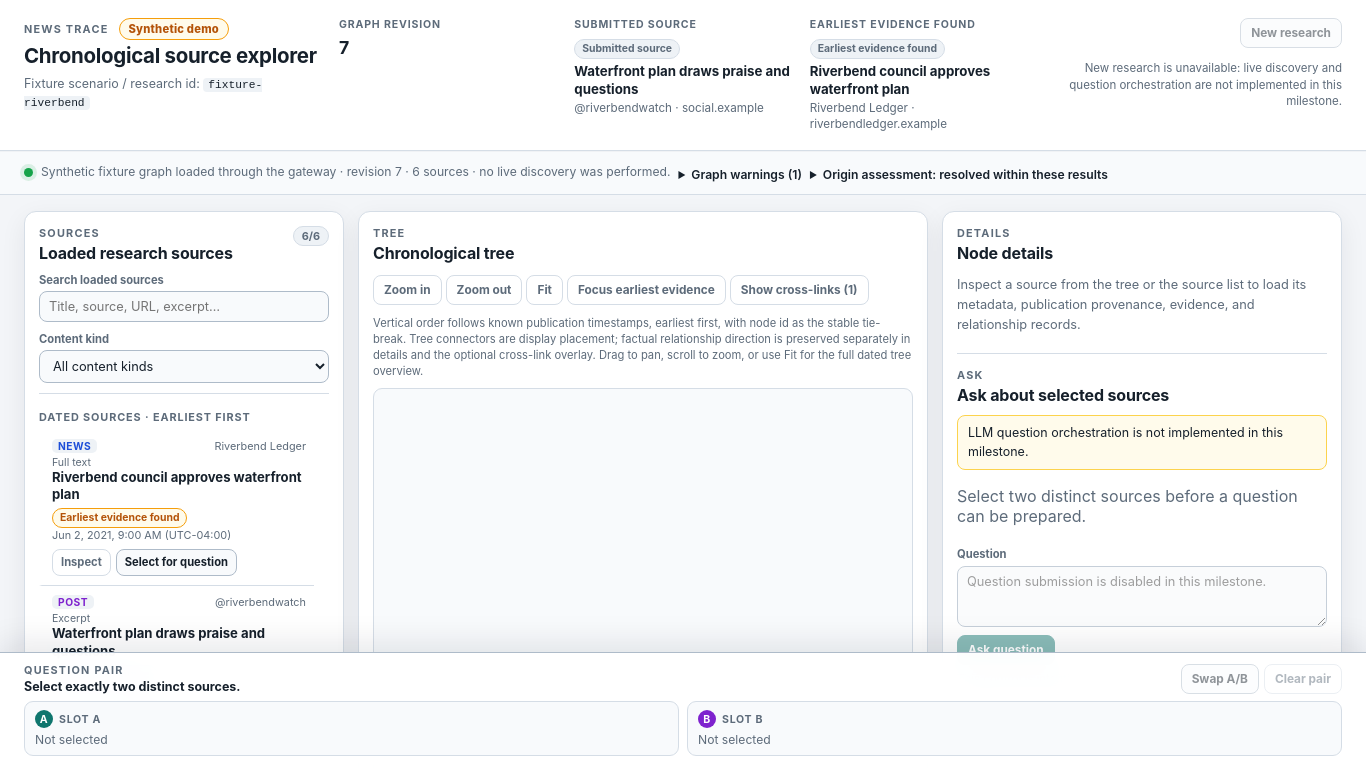
Test: source list search and filters › searches loaded sources and filters by content kind
The width and height of the screenshot is (1366, 768).
Type "Courier" into the search field with test id "source-search" at (184, 306), box [39,291,329,322]
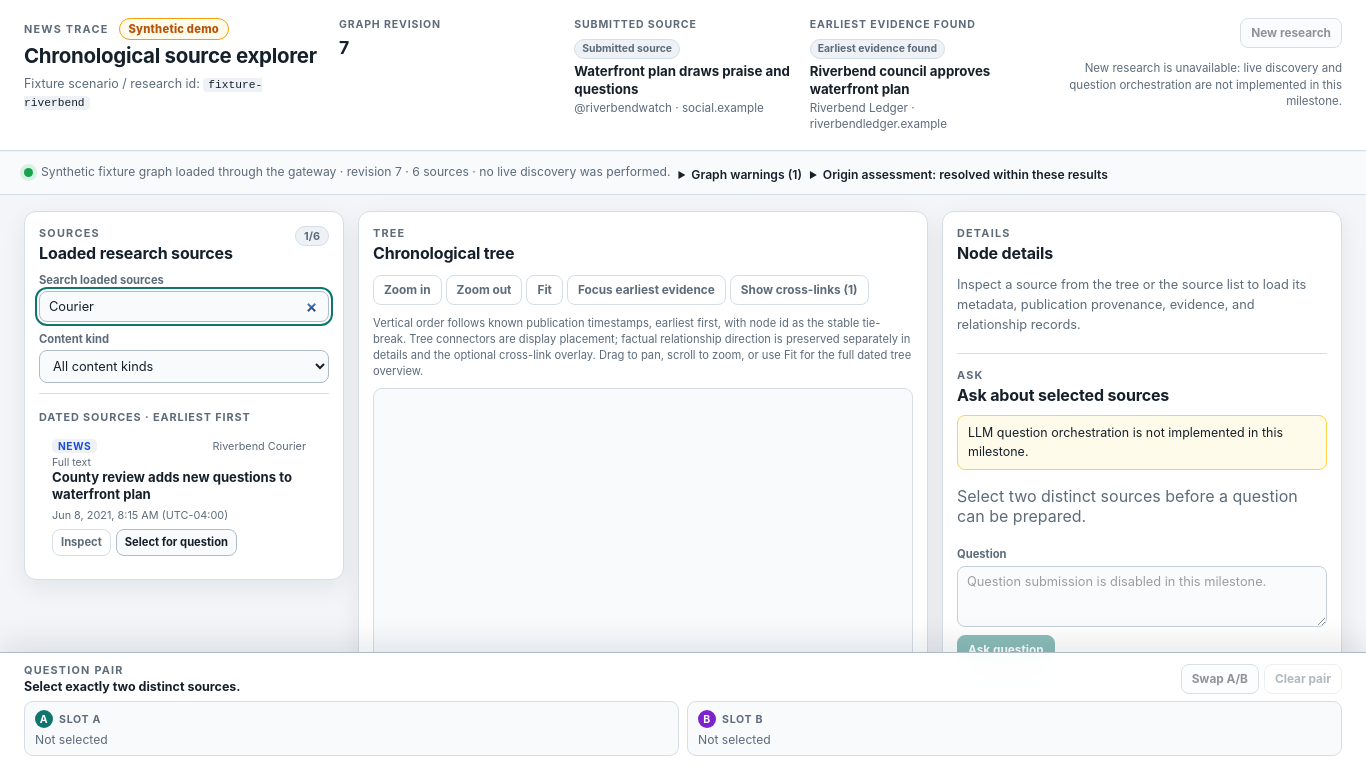
Result: the list item with test id "src-item-node-followup" is shown at [39,430,314,565]
Result: the list item with test id "src-item-node-seed" is gone
Clear the search field with test id "source-search" at (184, 306), box [39,291,329,322]
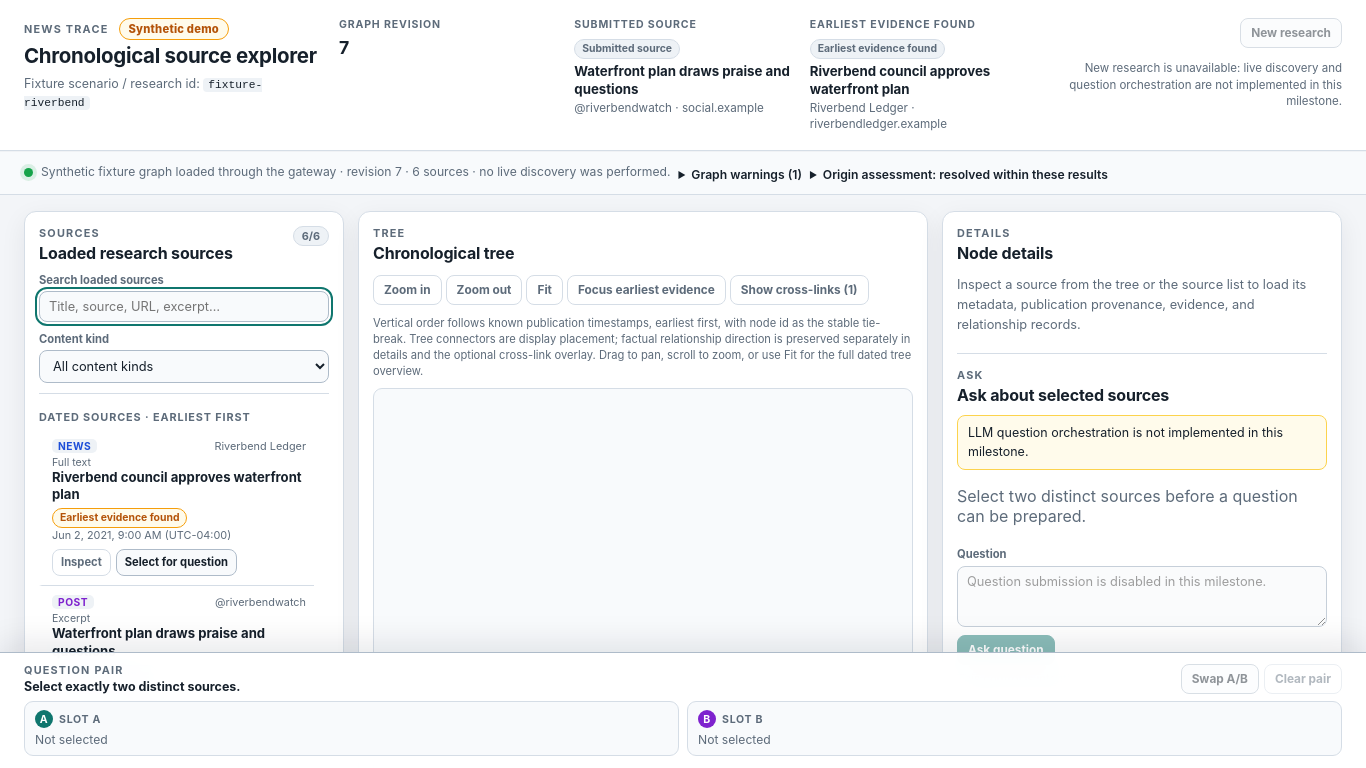
Select "News" in the dropdown labelled "Content kind" at (184, 366), box [39,350,329,383]
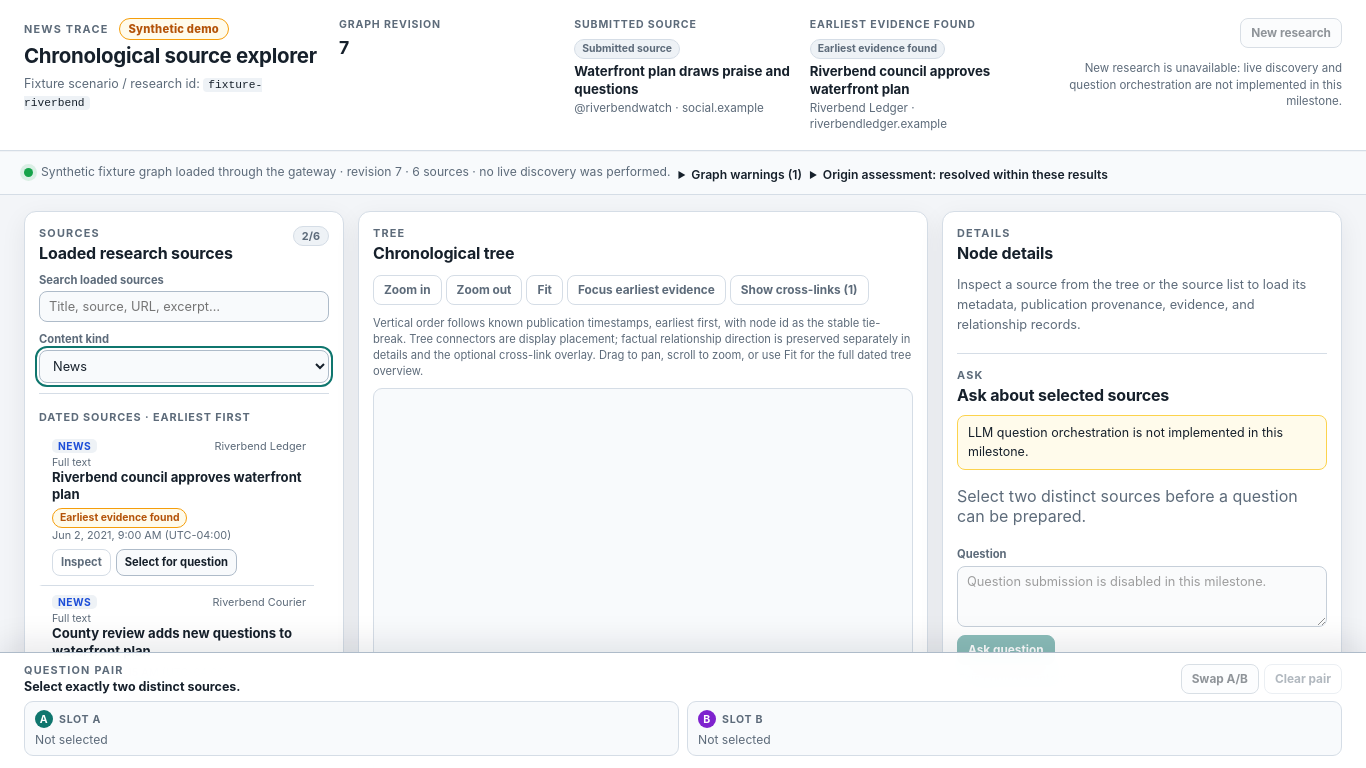
Result: the list item with test id "src-item-node-root" is shown at [39,430,314,586]
Result: the list item with test id "src-item-node-followup" is shown at [39,586,314,722]
Result: the list item with test id "src-item-node-seed" is gone
Type "no-match-query" into the search field with test id "source-search" at (184, 306), box [39,291,329,322]
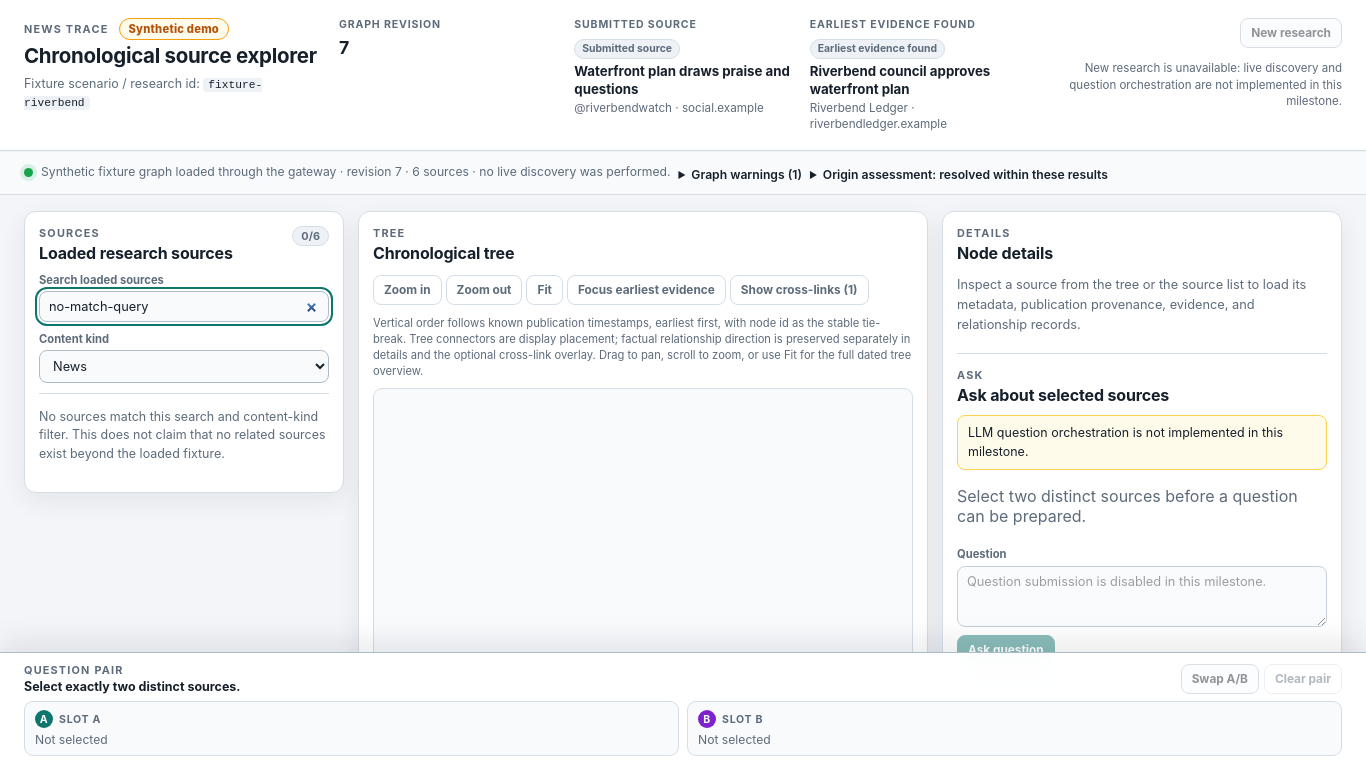
Result: the text "No sources match" is shown at [39,409,326,461]
